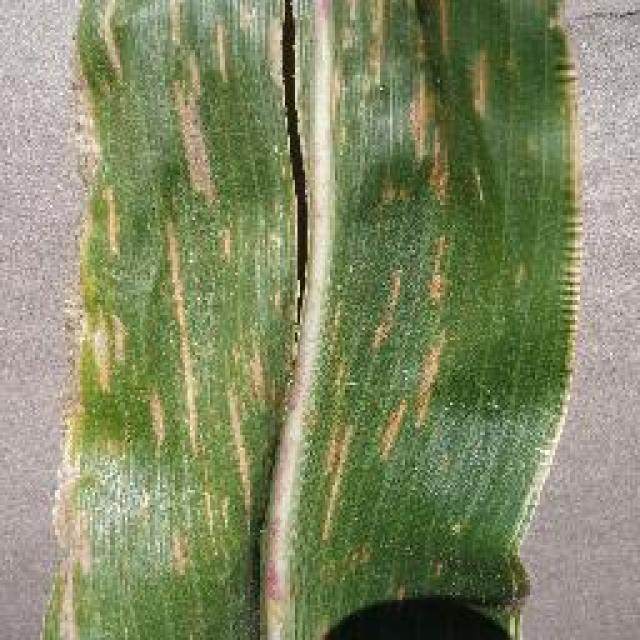Corn___Cercospora_leaf_spot Gray_leaf_spot: (98, 0, 559, 640)
